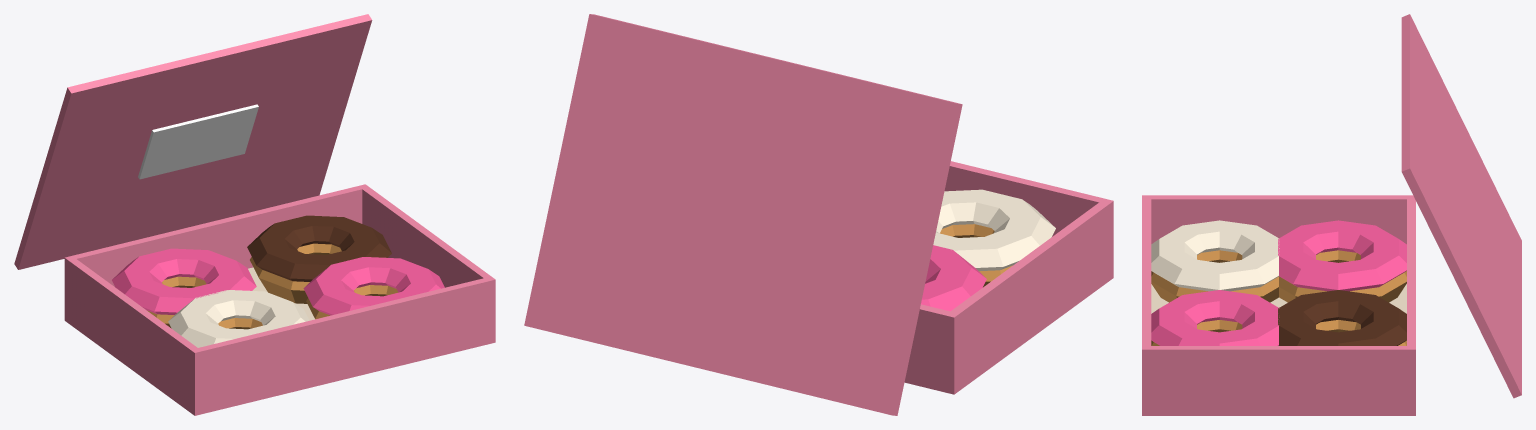
The model's file is donut_box.glb.
3 views of the same model, side by side, from view 1: azimuth 30°, elevation 25°; view 2: azimuth 150°, elevation 25°; view 3: azimuth 270°, elevation 25° (orthographic). The views are drawn at different scales.
Visible parts, largest first — view 1: lid_donut_box, box_donut_box, donut_1_icing_choco, donut_0_icing_pink, lid_donut_logo, donut_3_icing_pink, donut_2_icing_white, donut_1_donut_dough, donut_3_donut_dough, donut_0_donut_dough; view 2: lid_donut_box, box_donut_box, donut_2_icing_white, donut_0_icing_pink, donut_2_donut_dough; view 3: box_donut_box, lid_donut_box, donut_0_icing_pink, donut_2_icing_white, donut_1_icing_choco, donut_3_icing_pink, donut_0_donut_dough, donut_2_donut_dough, box_donut_box_in, donut_3_donut_dough, donut_1_donut_dough.
Part boxes in pixels (bbox=[...]): lid_donut_box: bbox=[14, 14, 372, 269]; box_donut_box: bbox=[64, 184, 495, 415]; donut_1_icing_choco: bbox=[247, 215, 391, 281]; donut_0_icing_pink: bbox=[112, 248, 256, 314]; lid_donut_logo: bbox=[138, 104, 258, 179]; donut_3_icing_pink: bbox=[303, 257, 444, 315]; donut_2_icing_white: bbox=[168, 290, 309, 347]; donut_1_donut_dough: bbox=[250, 243, 341, 303]; donut_3_donut_dough: bbox=[306, 285, 398, 319]; donut_0_donut_dough: bbox=[147, 276, 206, 328]; lid_donut_box: bbox=[524, 14, 962, 415]; box_donut_box: bbox=[904, 161, 1113, 394]; donut_2_icing_white: bbox=[933, 189, 1055, 271]; donut_0_icing_pink: bbox=[921, 245, 986, 311]; donut_2_donut_dough: bbox=[940, 224, 1012, 287]; box_donut_box: bbox=[1142, 195, 1415, 415]; lid_donut_box: bbox=[1401, 14, 1521, 398]; donut_0_icing_pink: bbox=[1278, 220, 1406, 291]; donut_2_icing_white: bbox=[1151, 220, 1279, 291]; donut_1_icing_choco: bbox=[1278, 290, 1406, 345]; donut_3_icing_pink: bbox=[1151, 290, 1279, 345]; donut_0_donut_dough: bbox=[1279, 250, 1406, 302]; donut_2_donut_dough: bbox=[1151, 250, 1278, 302]; box_donut_box_in: bbox=[1151, 284, 1406, 313]; donut_3_donut_dough: bbox=[1151, 320, 1242, 345]; donut_1_donut_dough: bbox=[1316, 320, 1406, 345].
Bounding box in the file's own units: 0.4 × 0.299 × 0.4158.
